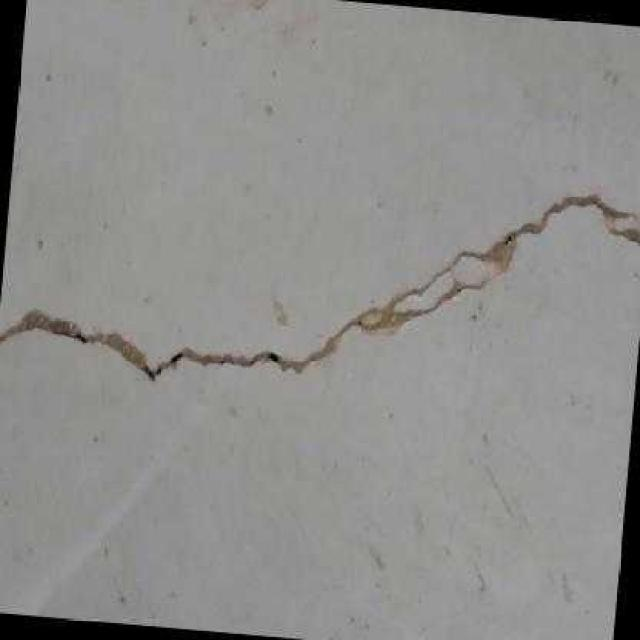D00: (0, 190, 640, 386)
